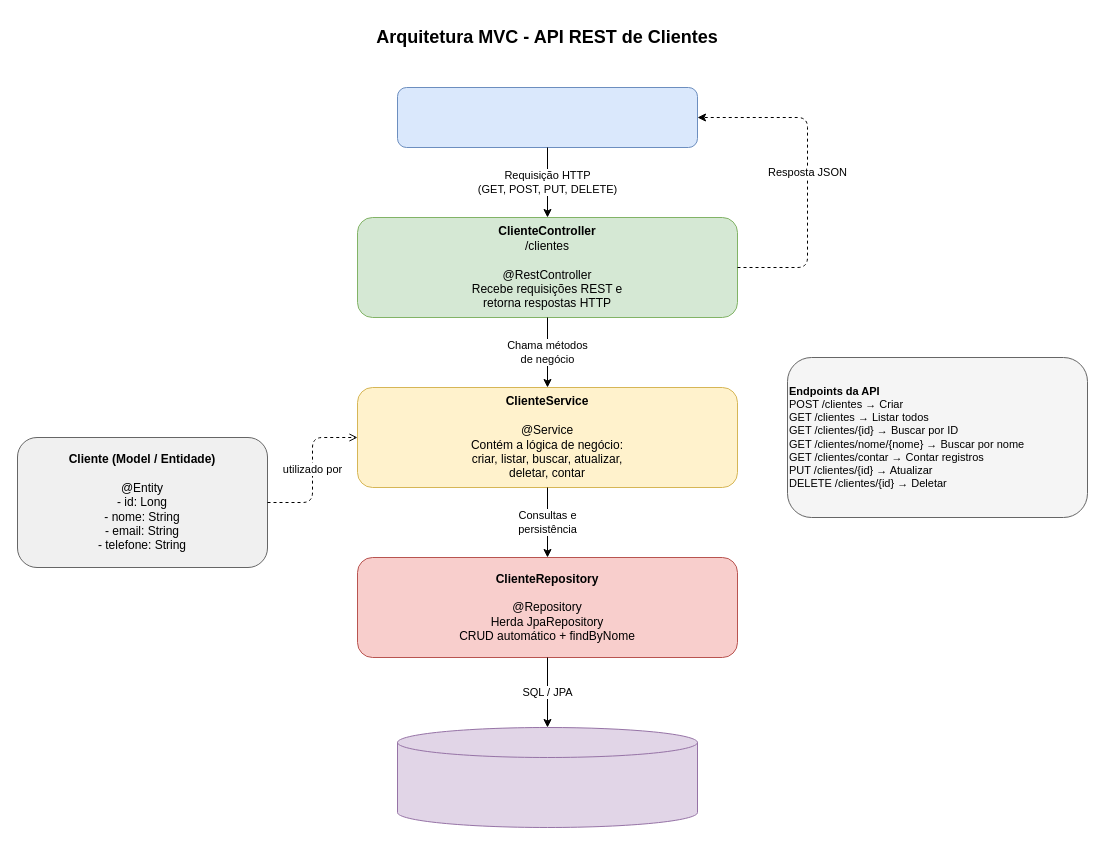
This 1105x845 diagram has some shape labels left out. Here are the shapes that lost their labels. From the top down, the centre of each, then its label:
At (547,117): "Cliente HTTP (Postman / Browser / Frontend)".
At (547,777): "Banco de Dados H2 (In-Memory) Tabela: clientes id | nome | email | telefone".
